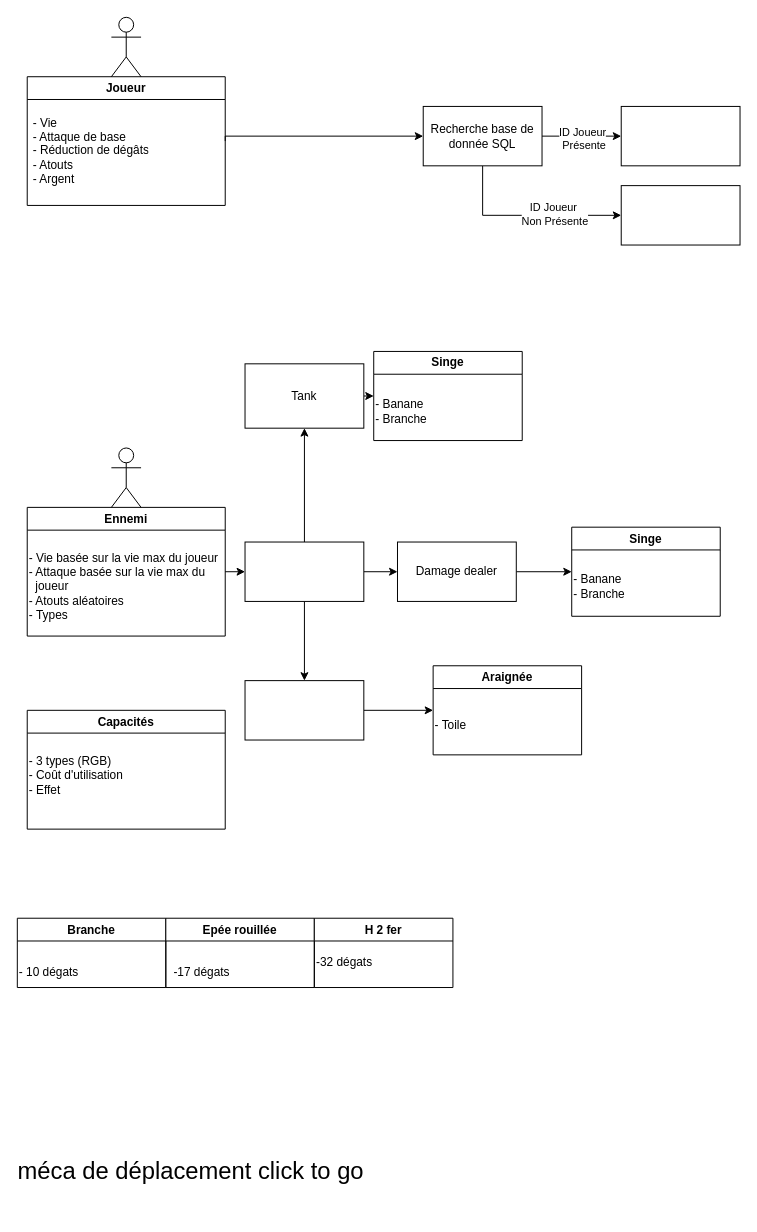
The diagram is 757 pixels wide and 1232 high, and some of its shapes have lost their labels. Here are the shapes that lost their labels. From the top down, the centre of each, then its label:
the point at 680,135: Application des statistiques
the point at 680,215: Création de la table du joueur
the point at 304,571: Types
the point at 304,710: Support
